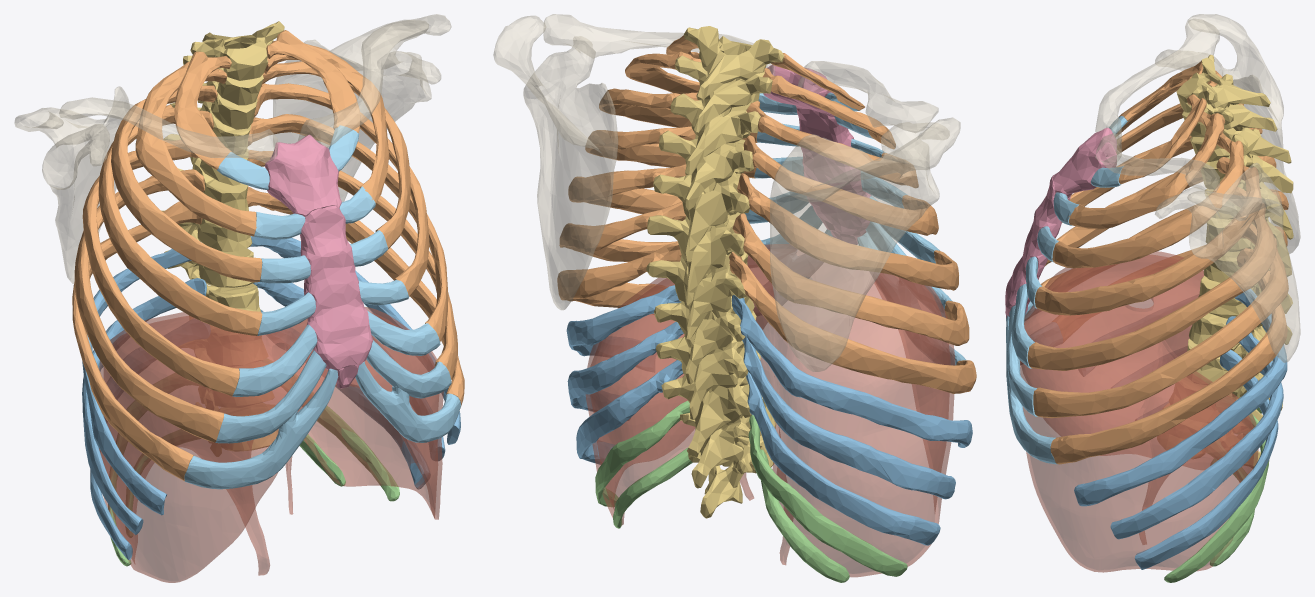
The model's file is ribcage.glb.
3 renders of one model, left to right at view 1: azimuth 30°, elevation 25°; view 2: azimuth 150°, elevation 25°; view 3: azimuth 270°, elevation 25°, orthographic. The views are drawn at different scales.
Parts seen in each view (by area): view 1: truerib, diaphragm, costal, girdle, tspine, falserib, sternum, floating; view 2: girdle, truerib, tspine, diaphragm, falserib, floating, costal, sternum; view 3: truerib, diaphragm, girdle, falserib, tspine, costal, sternum, floating.
Boxes of the visible parts, bbox=[...] form: truerib: bbox=[72, 30, 464, 481]; diaphragm: bbox=[99, 307, 443, 582]; costal: bbox=[184, 125, 460, 489]; girdle: bbox=[14, 14, 451, 283]; tspine: bbox=[161, 21, 284, 456]; falserib: bbox=[82, 236, 460, 559]; sternum: bbox=[265, 134, 372, 388]; floating: bbox=[108, 359, 399, 566]; girdle: bbox=[493, 14, 960, 371]; truerib: bbox=[557, 35, 976, 393]; tspine: bbox=[646, 26, 784, 518]; diaphragm: bbox=[585, 244, 955, 577]; falserib: bbox=[566, 285, 972, 545]; floating: bbox=[595, 400, 907, 582]; costal: bbox=[744, 92, 965, 365]; sternum: bbox=[763, 64, 871, 244]; truerib: bbox=[1027, 61, 1288, 464]; diaphragm: bbox=[1020, 251, 1258, 572]; girdle: bbox=[1095, 14, 1300, 362]; falserib: bbox=[1074, 276, 1287, 569]; tspine: bbox=[1157, 54, 1293, 468]; costal: bbox=[1006, 116, 1128, 464]; sternum: bbox=[1005, 127, 1116, 318]; floating: bbox=[1164, 397, 1269, 582].
Size of the model in its own units: 0.3329 by 0.3907 by 0.219.
